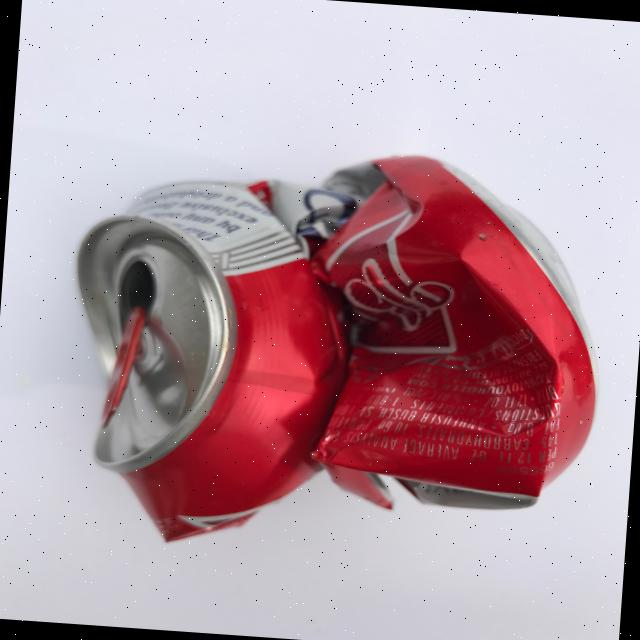metal: (289, 145, 613, 518)
